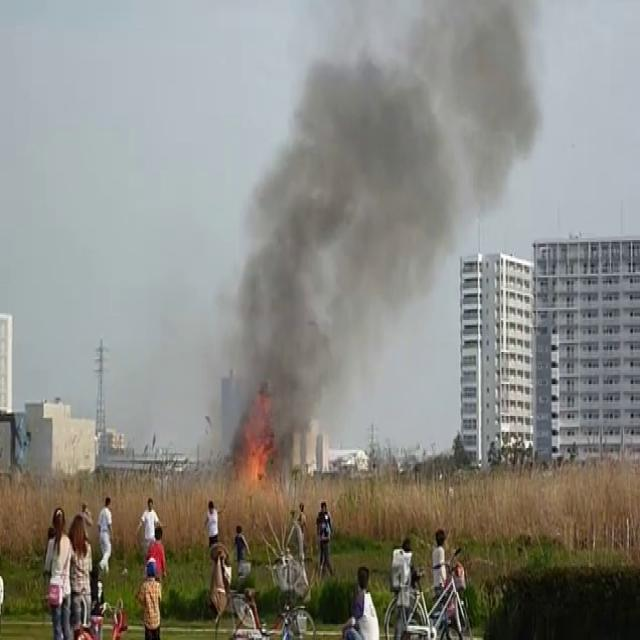Fire: (229, 403, 283, 495)
Smoke: (203, 0, 549, 453)
